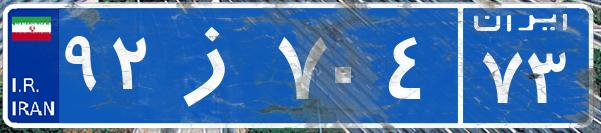0: (330, 28, 385, 110)
2: (110, 28, 158, 105)
3: (525, 38, 570, 115)
4: (385, 28, 445, 110)
7: (273, 28, 330, 110), (475, 38, 525, 113)
9: (57, 26, 110, 107)
ز: (158, 15, 273, 115)
